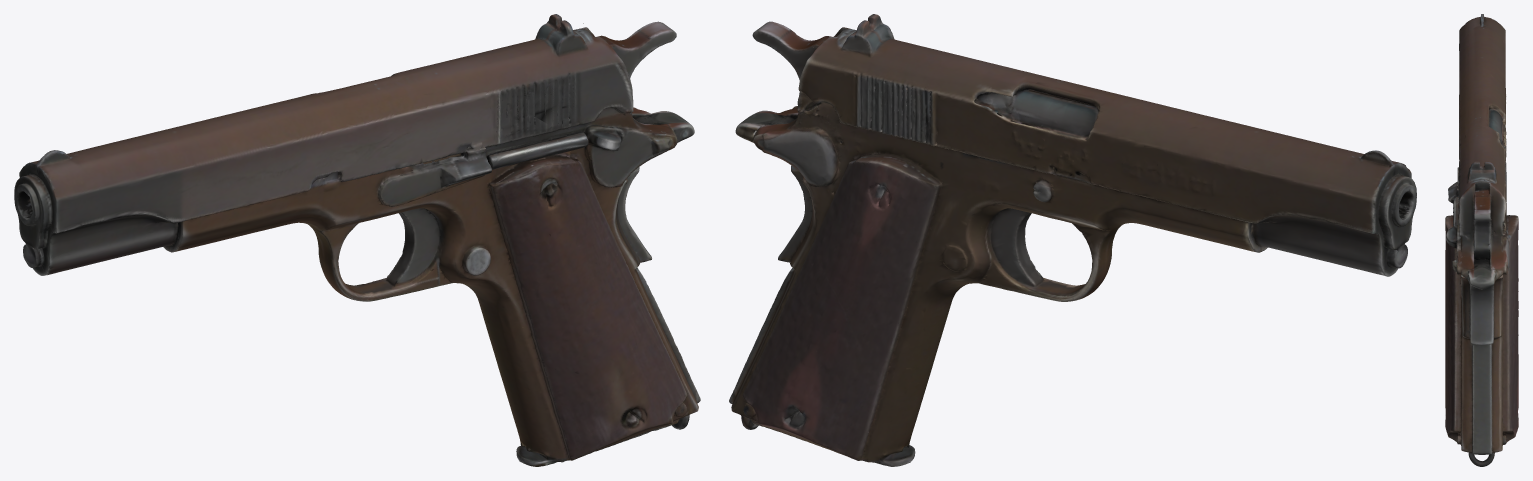
The model's file is M1911_pistol_1030144712_texture.fbx.
3 views of the same model, side by side, from view 1: azimuth 30°, elevation 25°; view 2: azimuth 150°, elevation 25°; view 3: azimuth 270°, elevation 25° (orthographic). The views are drawn at different scales.
Parts seen in each view (by area): view 1: Mesh_0.001; view 2: Mesh_0.001; view 3: Mesh_0.001.
Part boxes in pixels (x1,y1,x2,y2): Mesh_0.001: (14, 14, 700, 466); Mesh_0.001: (729, 14, 1416, 466); Mesh_0.001: (1445, 14, 1518, 466).
Bounding box in the file's own units: 190 × 119 × 29.4.
Materials: 1 (1 with a texture image).
